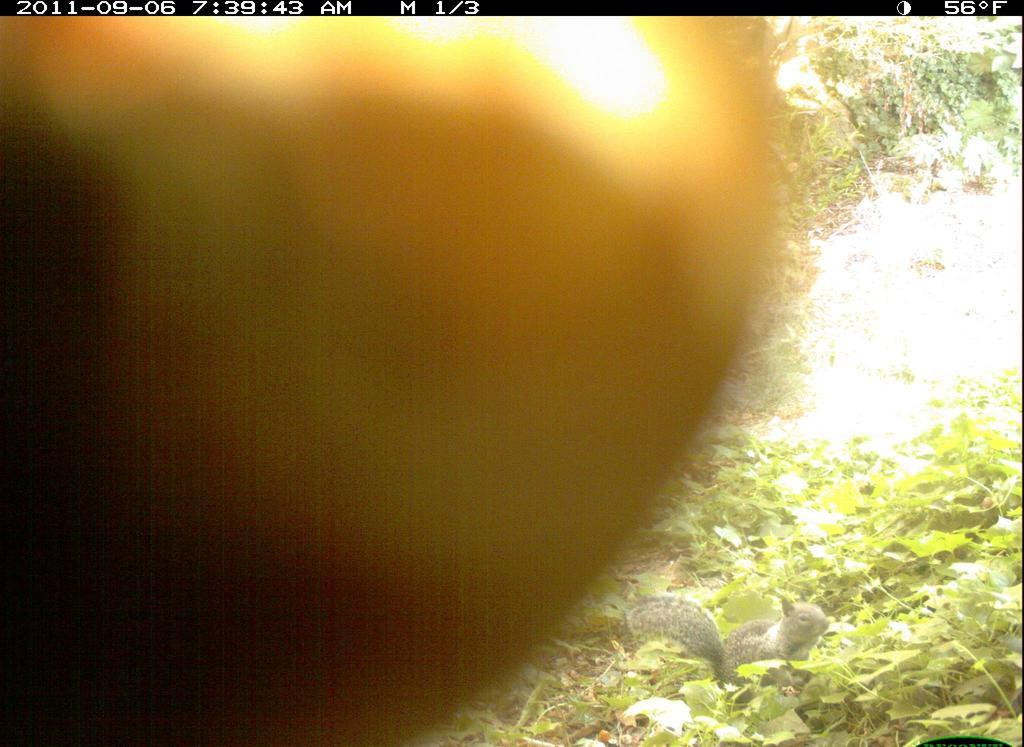squirrel: (623, 577, 834, 699)
